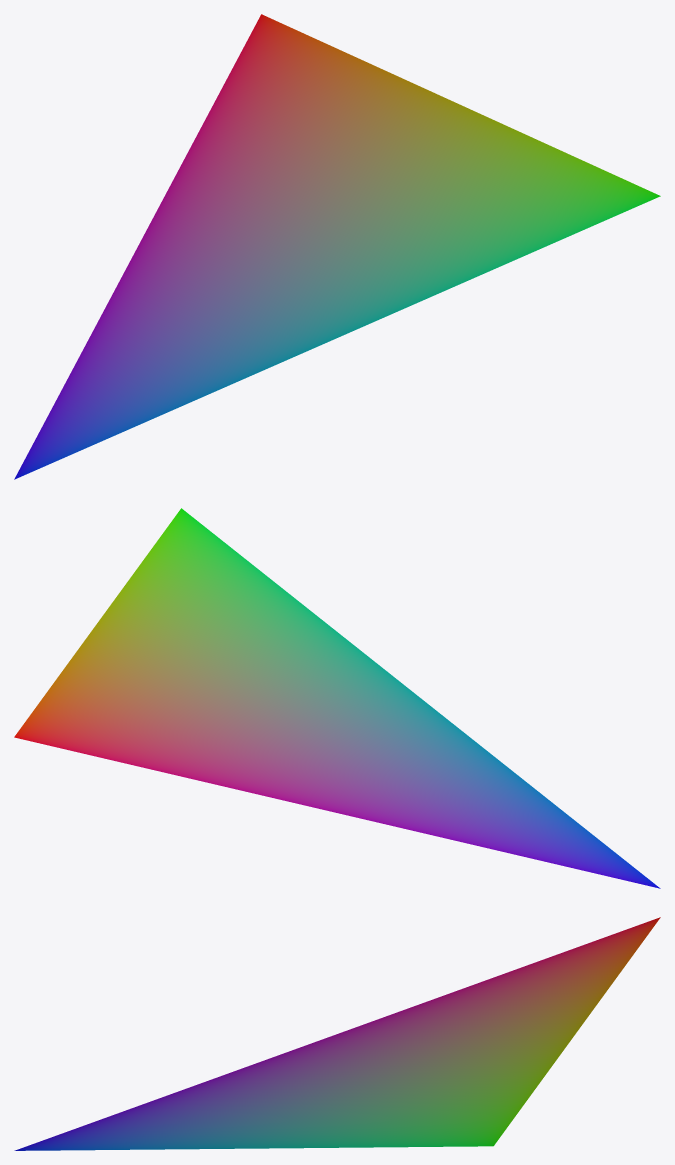
The model's file is face_cleaning_conquest_104.obj.
3 renders of one model, top to bottom at view 1: azimuth 30°, elevation 25°; view 2: azimuth 150°, elevation 25°; view 3: azimuth 330°, elevation 25°, orthographic. The views are drawn at different scales.
Size of the model in its own units: 0.573 by 0.191 by 0.4973.
